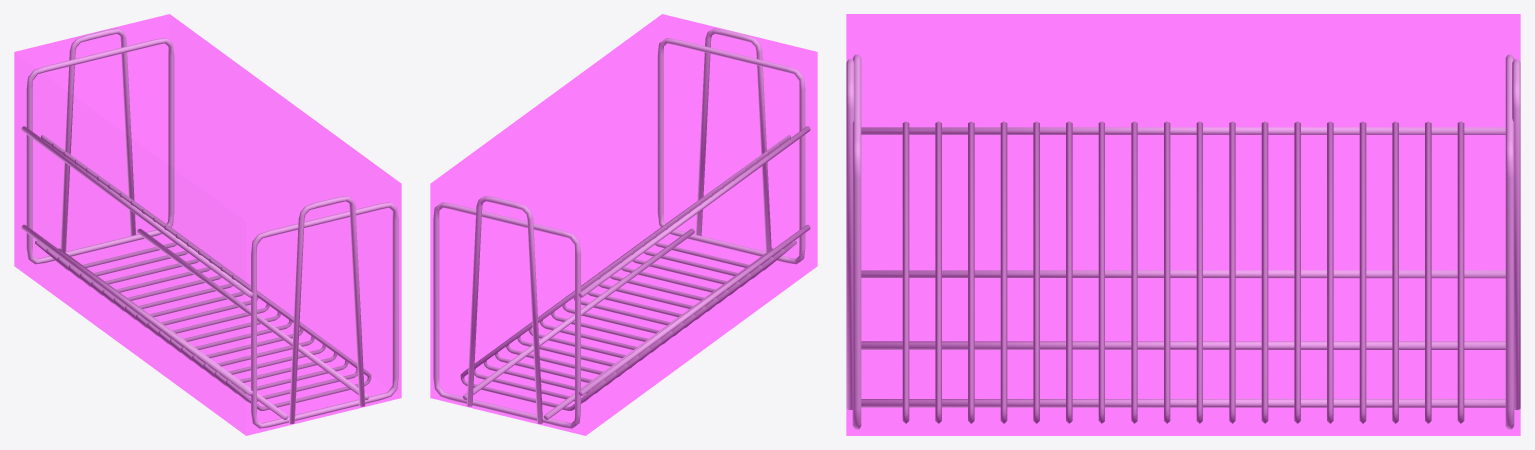
The model's file is CDrack_A.fbx.
The picture shows the model from 3 angles, left to right: view 1: azimuth 30°, elevation 25°; view 2: azimuth 150°, elevation 25°; view 3: azimuth 270°, elevation 25°; orthographic projection. The views are drawn at different scales.
Visible parts, largest first — view 1: boundingbox, CDrack_A; view 2: boundingbox, CDrack_A; view 3: boundingbox, CDrack_A.
Part boxes in pixels (bbox=[...]): boundingbox: bbox=[14, 14, 401, 435]; CDrack_A: bbox=[21, 28, 398, 428]; boundingbox: bbox=[430, 14, 817, 435]; CDrack_A: bbox=[433, 28, 810, 428]; boundingbox: bbox=[846, 14, 1520, 435]; CDrack_A: bbox=[846, 54, 1520, 429].
Size of the model in its own units: 11.99 by 15.81 by 31.
